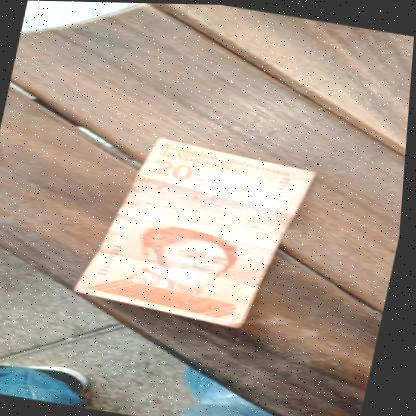twenty-front-vef: (68, 88, 318, 296)
